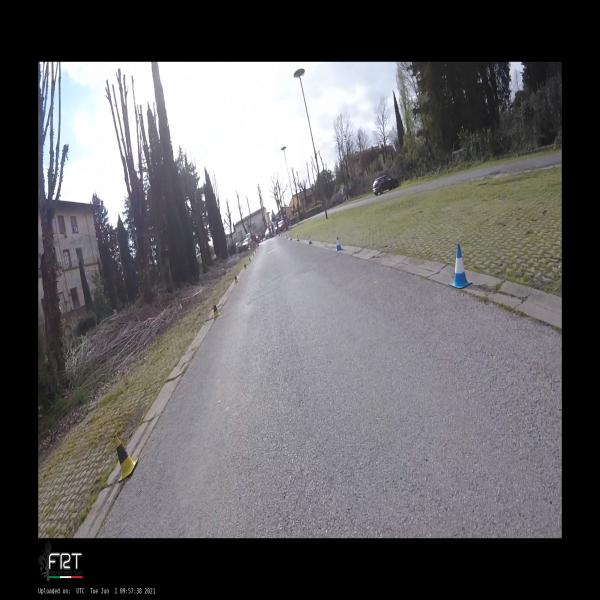blue_cone: (449, 244, 472, 288), (335, 237, 343, 251), (309, 235, 313, 245), (297, 235, 299, 241), (290, 235, 292, 240)
yellow_cone: (114, 434, 139, 482), (214, 302, 221, 318), (234, 276, 238, 284), (244, 262, 247, 269), (249, 257, 251, 262)
